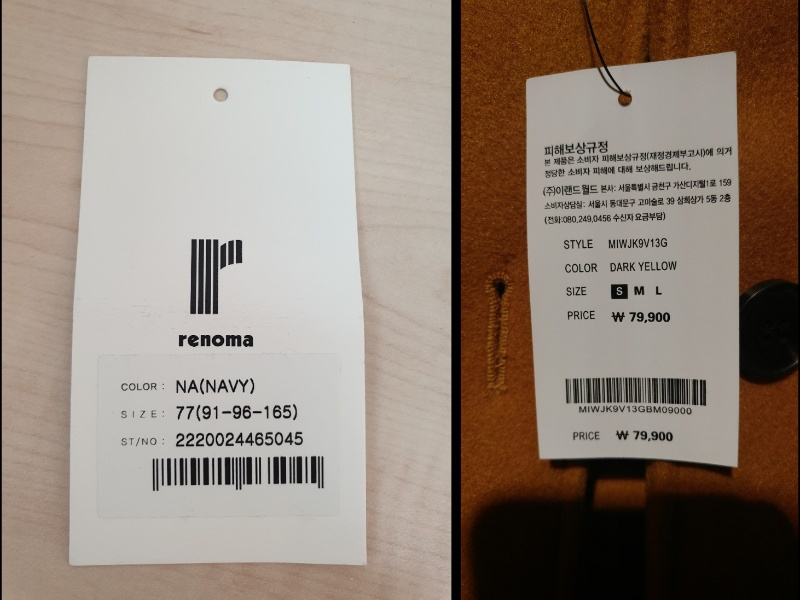tag: (69, 56, 369, 566), (528, 49, 743, 467)
text: (538, 179, 734, 224), (539, 148, 730, 173), (170, 429, 309, 448), (173, 403, 302, 422), (575, 403, 695, 419), (173, 376, 256, 397), (175, 332, 255, 350), (608, 307, 675, 325), (615, 425, 675, 444), (542, 140, 613, 156), (605, 235, 671, 251), (119, 405, 169, 423), (609, 259, 678, 272), (117, 435, 167, 451), (116, 380, 167, 395), (561, 260, 600, 276), (563, 306, 597, 323), (569, 429, 604, 444), (561, 237, 596, 250), (564, 284, 590, 298)
